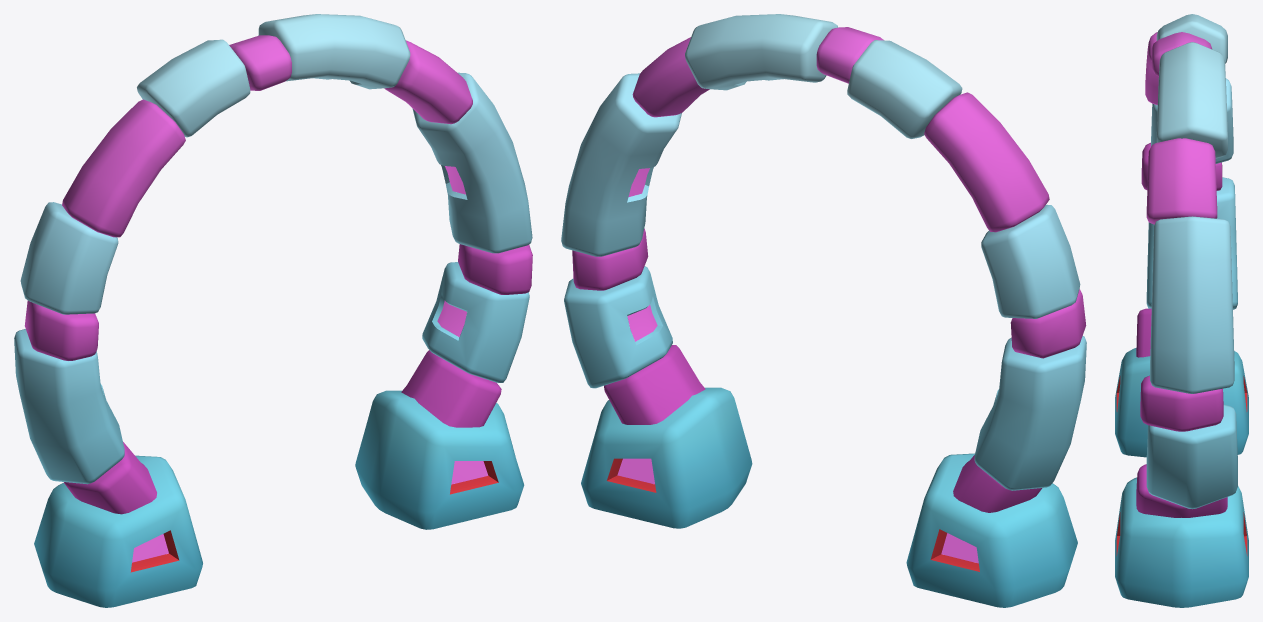
Rendered from Gate_02.glb.
3 renders of one model, left to right at view 1: azimuth 30°, elevation 25°; view 2: azimuth 150°, elevation 25°; view 3: azimuth 270°, elevation 25°, orthographic. The views are drawn at different scales.
Visible parts, largest first — view 1: Gate_02; view 2: Gate_02; view 3: Gate_02.
Boxes of the visible parts, left/top/right/bottom form: Gate_02: left=14, top=14, right=532, bottom=607; Gate_02: left=561, top=14, right=1086, bottom=607; Gate_02: left=1115, top=14, right=1248, bottom=607.
Bounding box in the file's own units: 6.38 × 6.09 × 1.59.
Materials: 3 (3 with a texture image).
